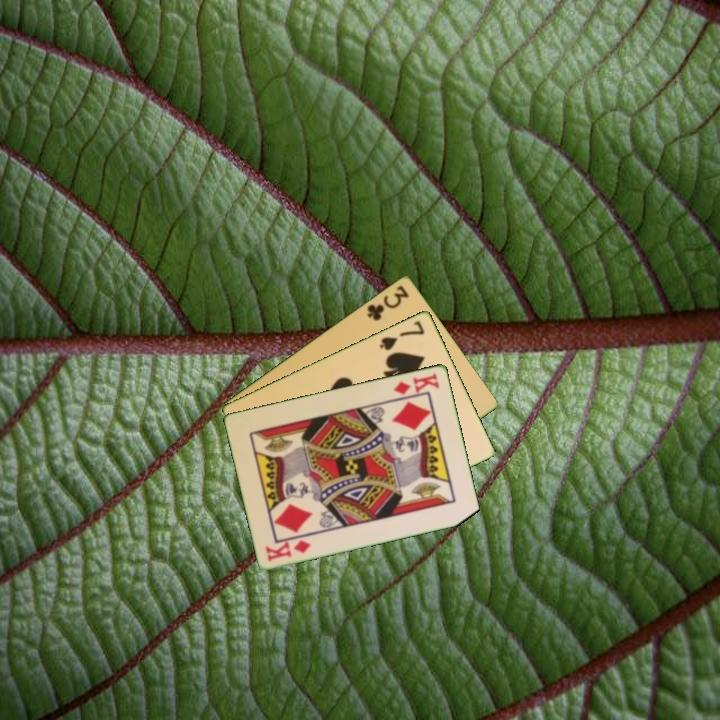3c: (363, 281, 412, 324)
7s: (376, 317, 428, 353)
Kd: (390, 369, 442, 397), (262, 536, 314, 564)
